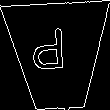P_S: (39, 30, 76, 82)
